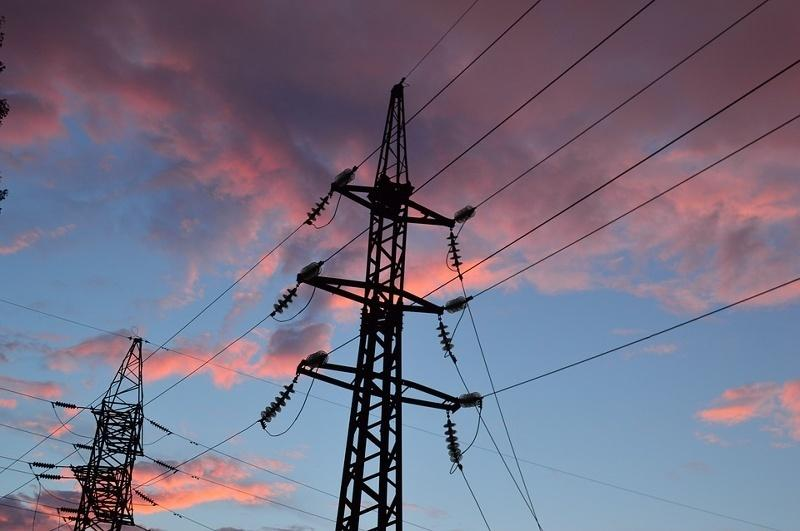power_tower: (287, 69, 477, 527), (41, 330, 205, 523)
